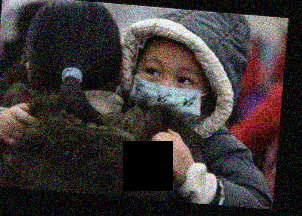with_mask: (128, 53, 204, 123)
